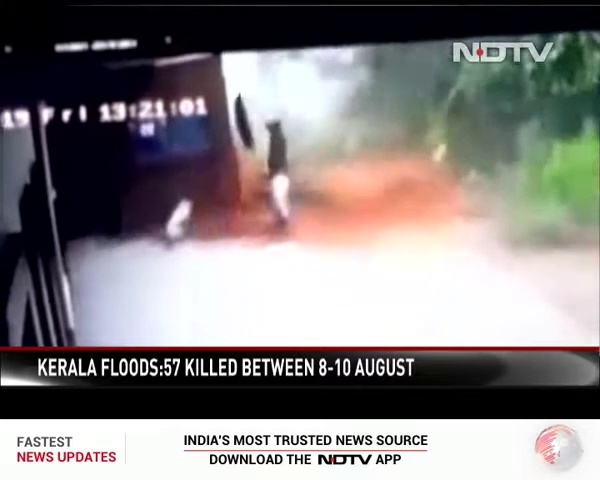person: (264, 119, 290, 232)
